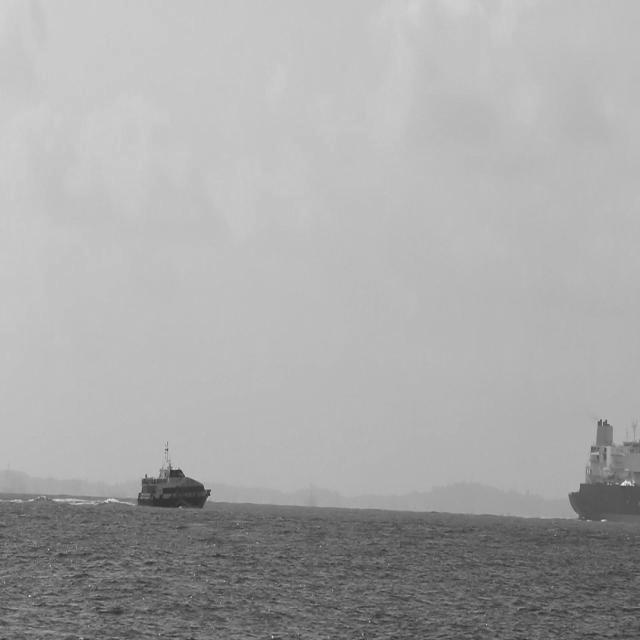ship: (562, 423, 640, 532), (130, 454, 208, 530)
